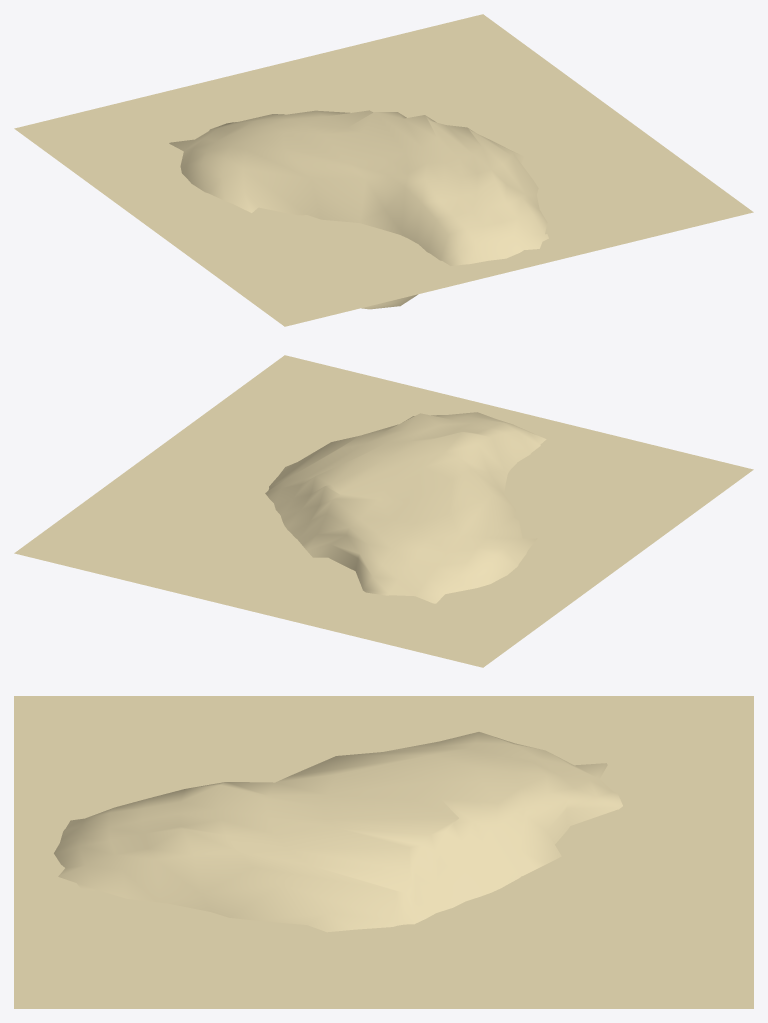
The model's file is Ile1.fbx.
The picture shows the model from 3 angles, top to bottom: view 1: azimuth 30°, elevation 25°; view 2: azimuth 150°, elevation 25°; view 3: azimuth 270°, elevation 25°; orthographic projection. The views are drawn at different scales.
Visible parts, largest first — view 1: Plage.001; view 2: Plage.001; view 3: Plage.001.
Boxes of the visible parts, <box> form: Plage.001: <box>14,14,753,326</box>; Plage.001: <box>14,355,753,667</box>; Plage.001: <box>14,696,753,1008</box>.
Size of the model in its own units: 5441 by 5441 by 1029.
